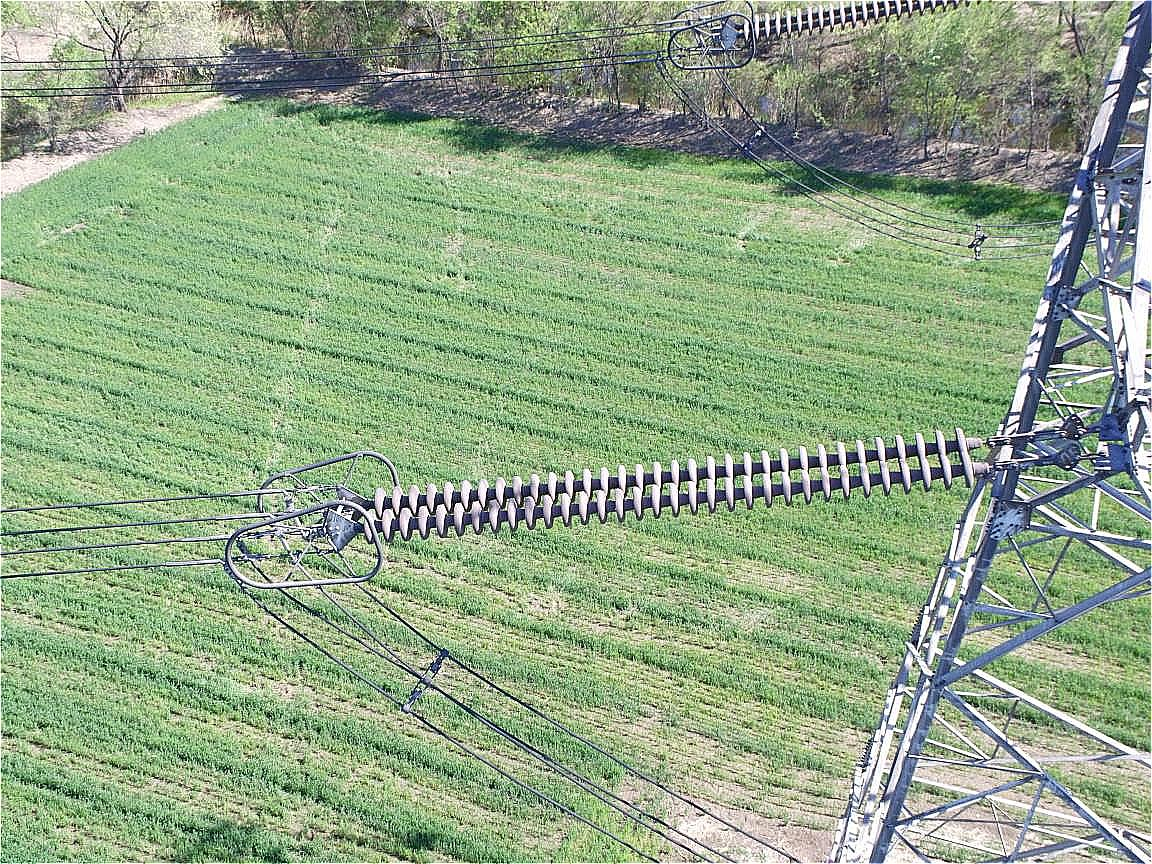insultor1: (361, 425, 976, 544)
